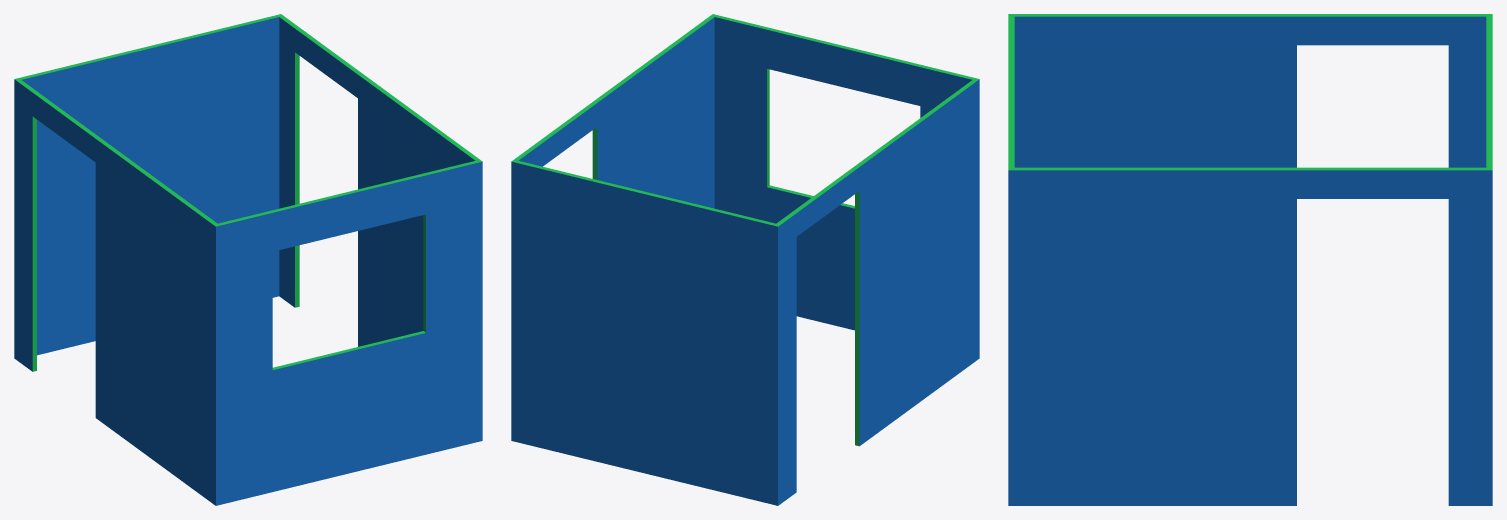
Rendered from SM_plywood_fence_13.fbx.
The picture shows the model from 3 angles, left to right: view 1: azimuth 30°, elevation 25°; view 2: azimuth 150°, elevation 25°; view 3: azimuth 270°, elevation 25°; orthographic projection. The views are drawn at different scales.
Visible parts, largest first — view 1: Boole_7; view 2: Boole_7; view 3: Boole_7.
Part boxes in pixels (x1,y1,x2,y2): Boole_7: (14,14,482,505); Boole_7: (511,14,979,505); Boole_7: (1008,14,1492,505).
Size of the model in its own units: 200 by 200 by 262.
